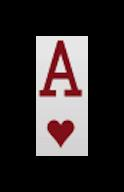AH: (38, 37, 85, 152)
